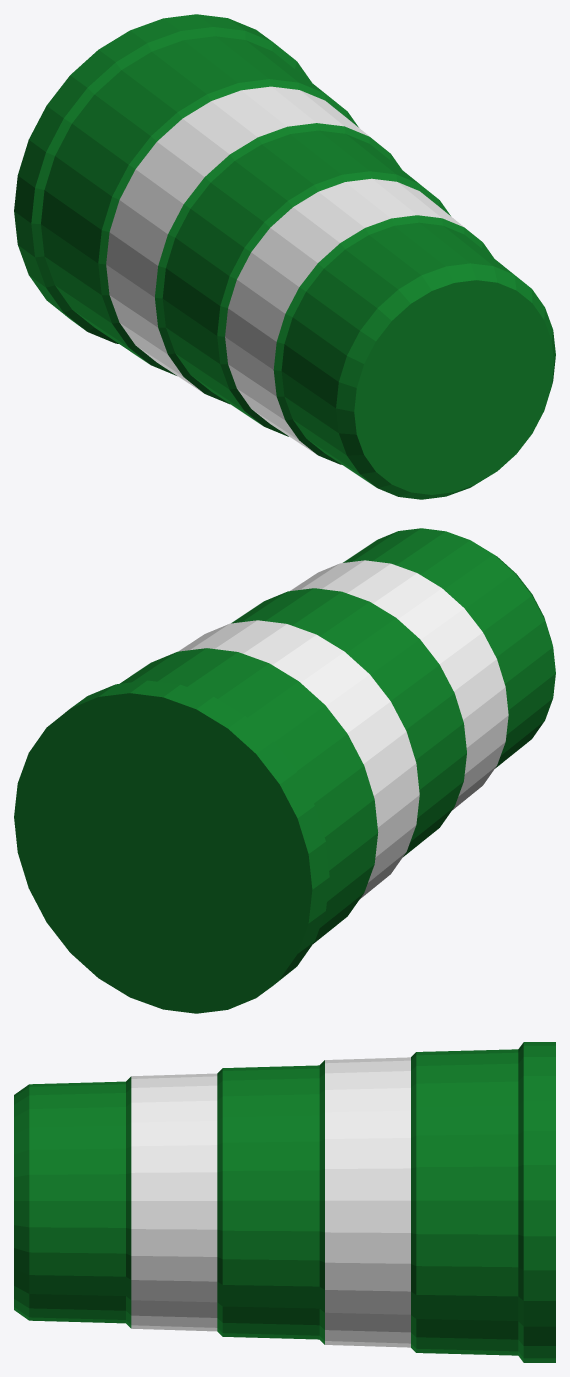
The model's file is barrel.obj.
3 renders of one model, top to bottom at view 1: azimuth 30°, elevation 25°; view 2: azimuth 150°, elevation 25°; view 3: azimuth 270°, elevation 25°, orthographic. The views are drawn at different scales.
Parts seen in each view (by area): view 1: barrel_green; view 2: barrel_green; view 3: barrel_green.
Part boxes in pixels (x1,y1,x2,y2): barrel_green: [14, 14, 555, 499]; barrel_green: [14, 528, 555, 1013]; barrel_green: [14, 1042, 555, 1362].
Size of the model in its own units: 0.5969 by 0.5969 by 1.01.
